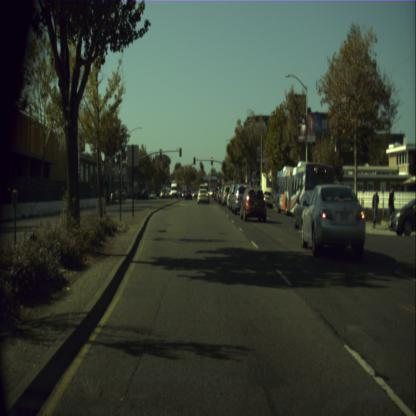Red: (243, 176, 244, 182)
Yellow: (210, 156, 212, 165)
off: (193, 156, 195, 165)
